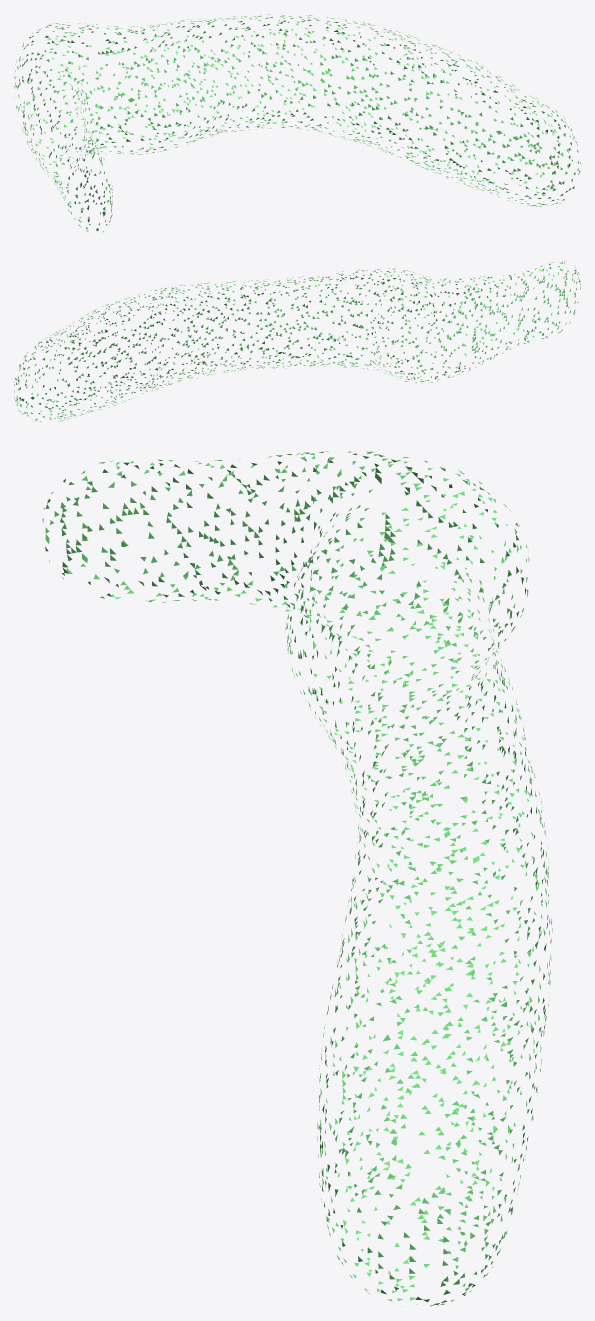
The model's file is morph_018.glb.
The picture shows the model from 3 angles, top to bottom: view 1: azimuth 30°, elevation 25°; view 2: azimuth 150°, elevation 25°; view 3: azimuth 270°, elevation 25°; orthographic projection. The views are drawn at different scales.
Size of the model in its own units: 116 by 54.59 by 54.81.
